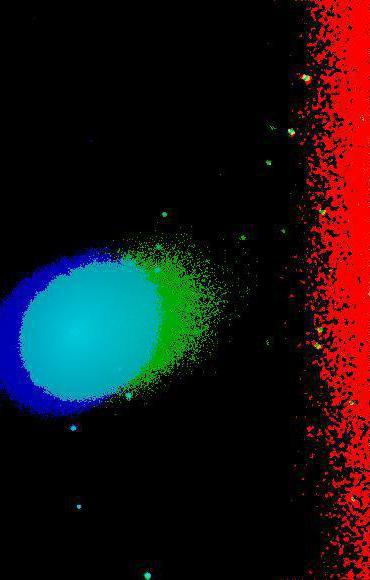star: (128, 367, 158, 397)
